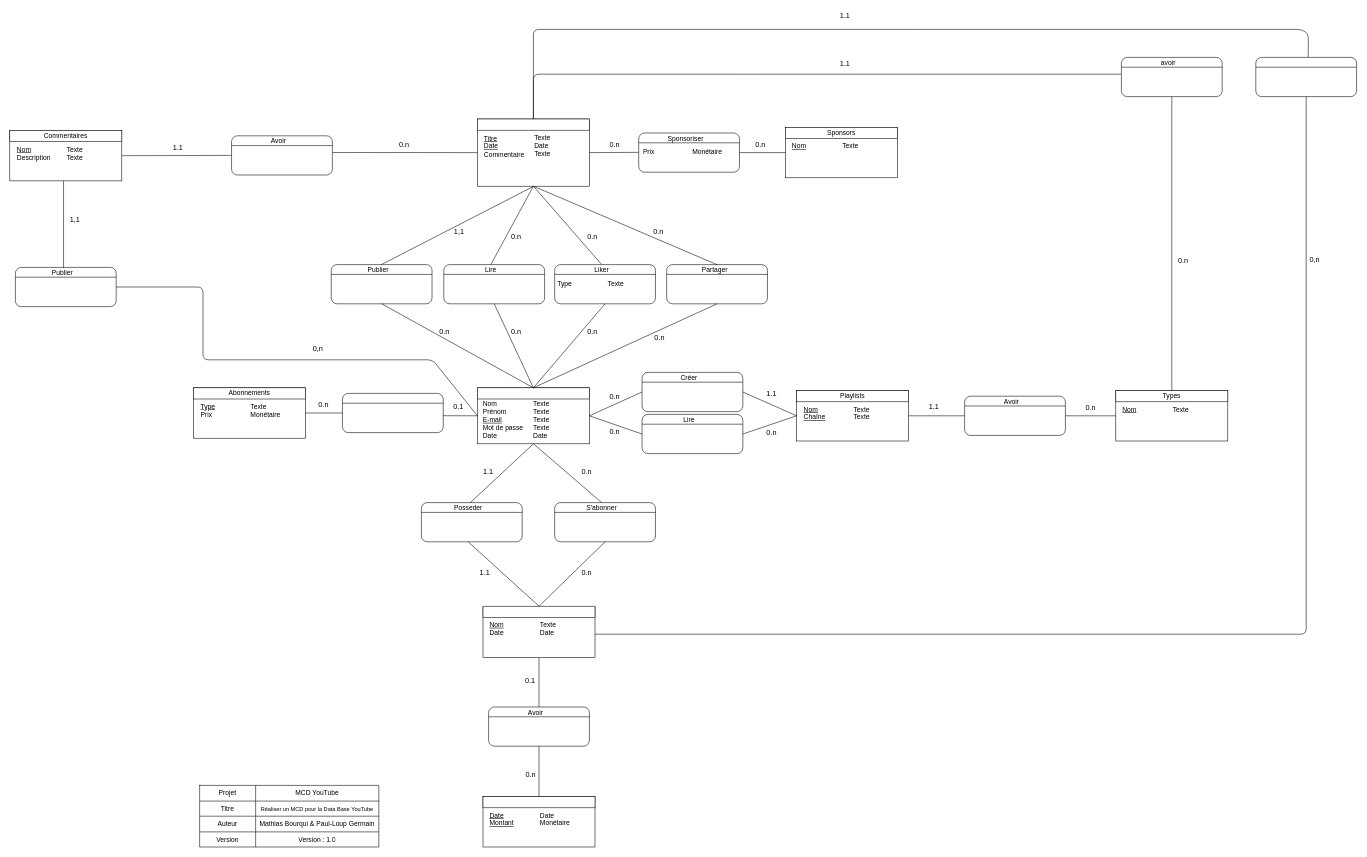
This 1367x857 diagram has some shape labels left out. Here are the shapes that lost their labels. From the top down, the centre of each, then its label:
At point 1306,77: "Appartenir".
At point 533,124: "Vidéos".
At point 392,413: "Payer".
At point 533,393: "Utilisateurs".
At point 538,611: "Chaines".
At point 538,802: "Monétisation".
